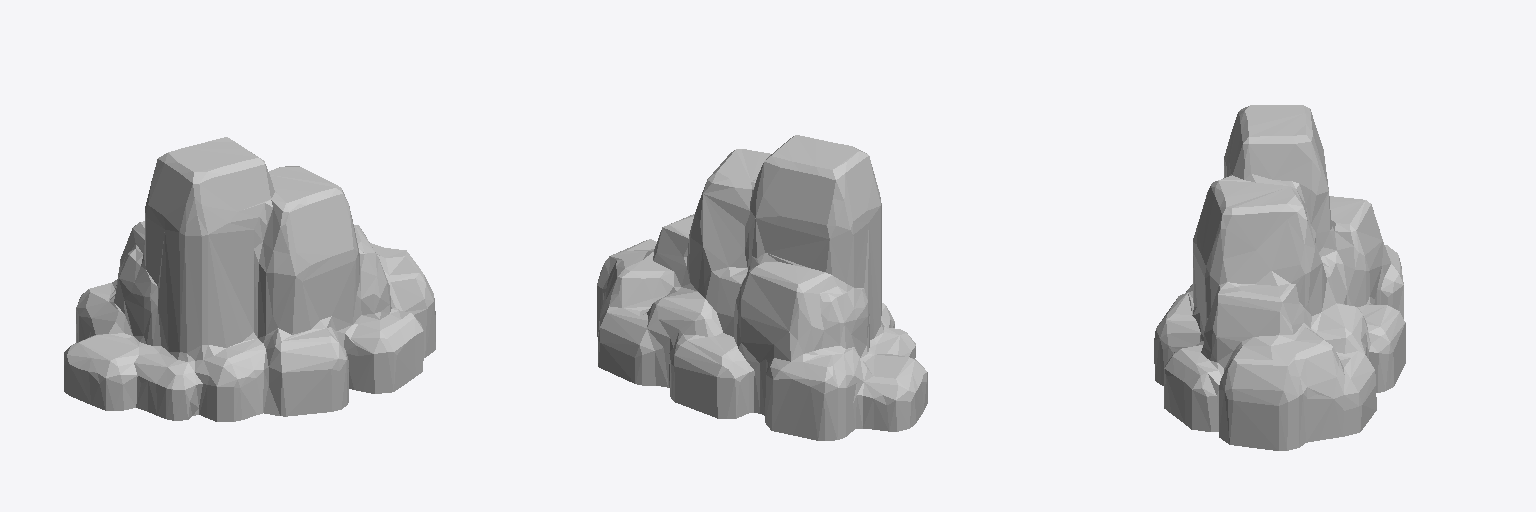
Rendered from rock.obj.
The picture shows the model from 3 angles: view 1: azimuth 30°, elevation 25°; view 2: azimuth 150°, elevation 25°; view 3: azimuth 270°, elevation 25°; orthographic projection.
Visible parts, largest first — view 1: Rock_1_; view 2: Rock_1_; view 3: Rock_1_.
Boxes of the visible parts, x1,y1,x2,y2 form: Rock_1_: [64, 137, 435, 421]; Rock_1_: [597, 135, 927, 440]; Rock_1_: [1154, 105, 1405, 450].
Size of the model in its own units: 2.51 by 1.62 by 1.63.